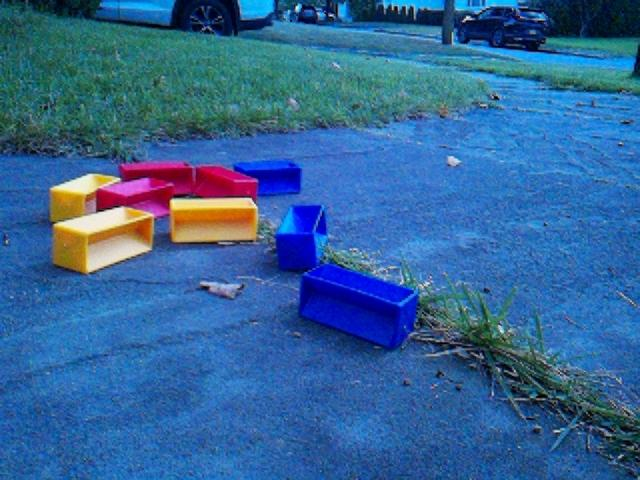blue: (297, 261, 421, 350), (274, 202, 329, 271), (233, 158, 303, 197)
red: (95, 176, 175, 219), (118, 160, 195, 197), (193, 163, 259, 201)
yellow: (52, 205, 155, 275), (169, 196, 259, 244), (49, 172, 121, 223)
